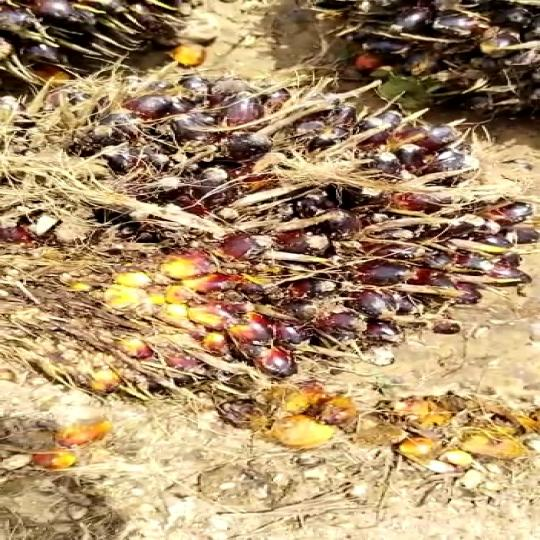mentah: (0, 66, 526, 393)
